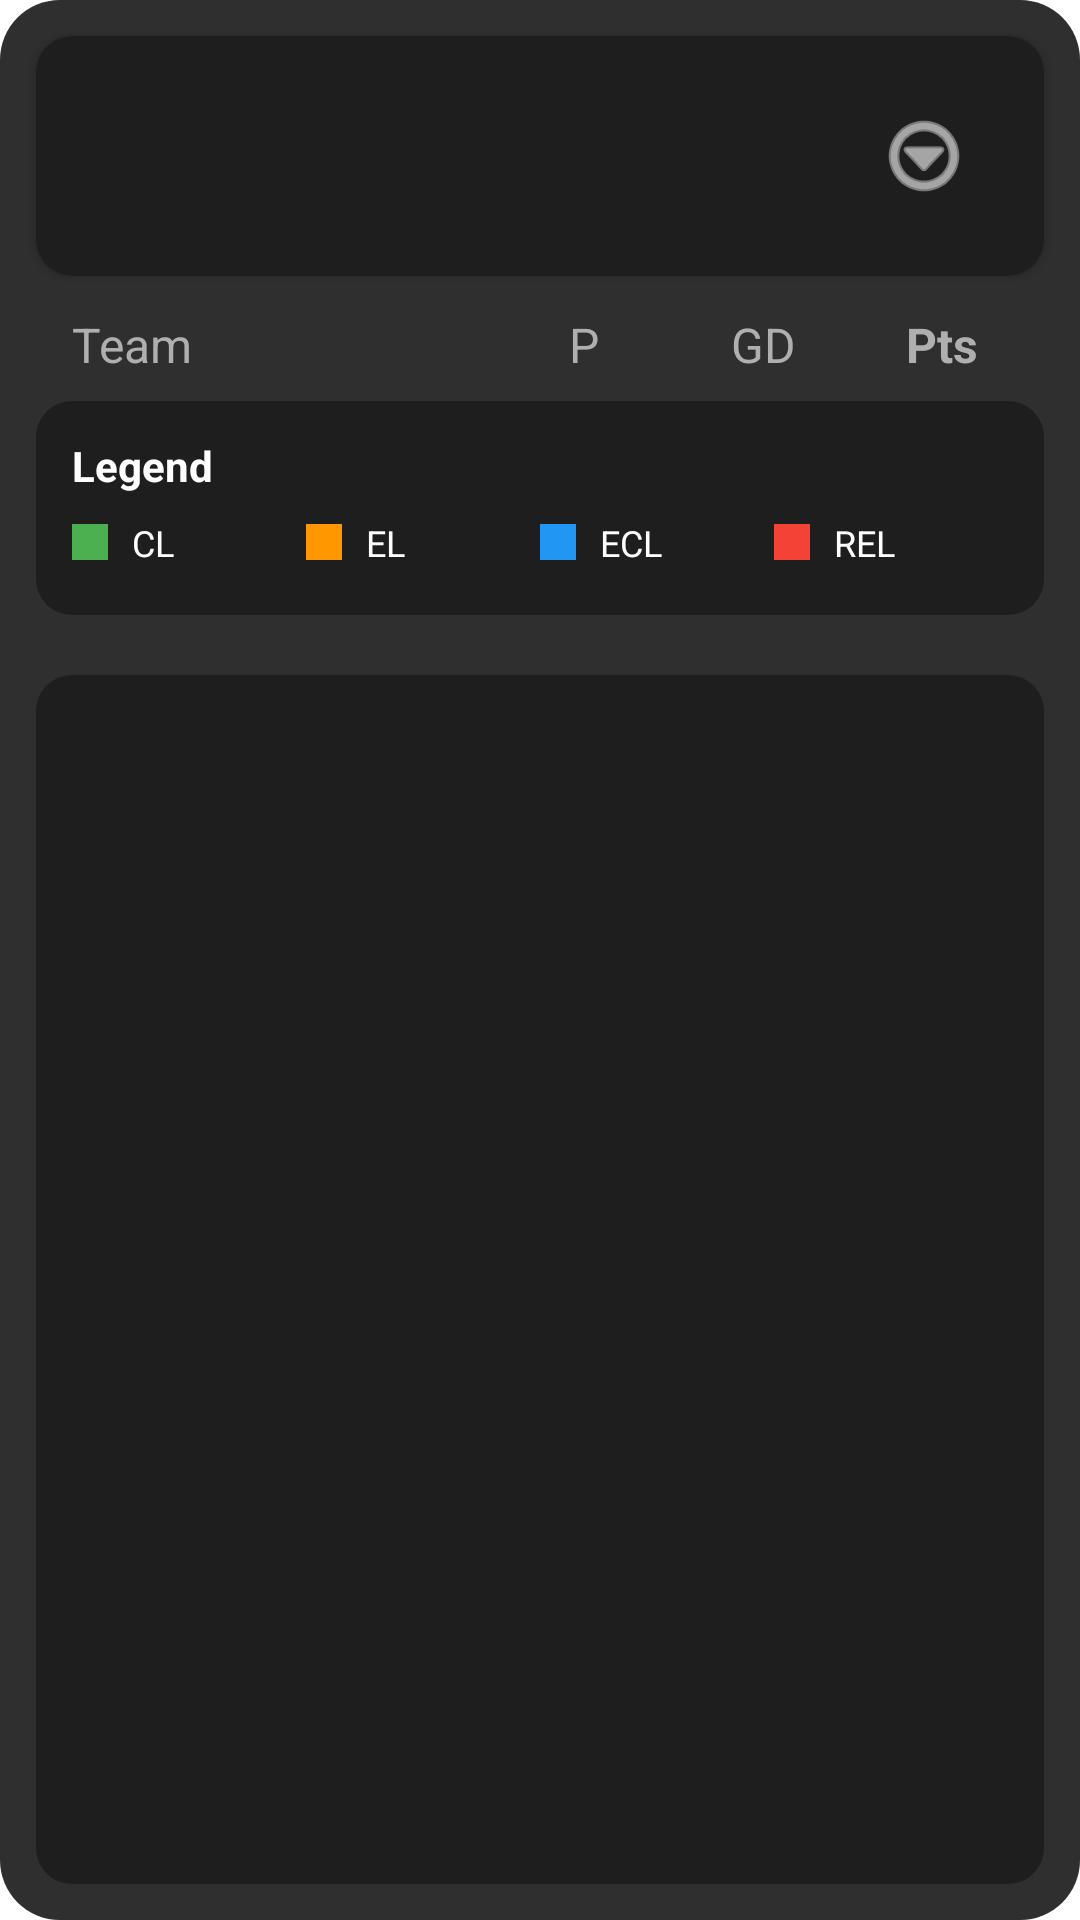

Icon bounding boxes for this 1080 × 1920 phone screenshot, format (x1, y1, x2, y2):
Toggle season selection: (888, 120, 960, 192)
